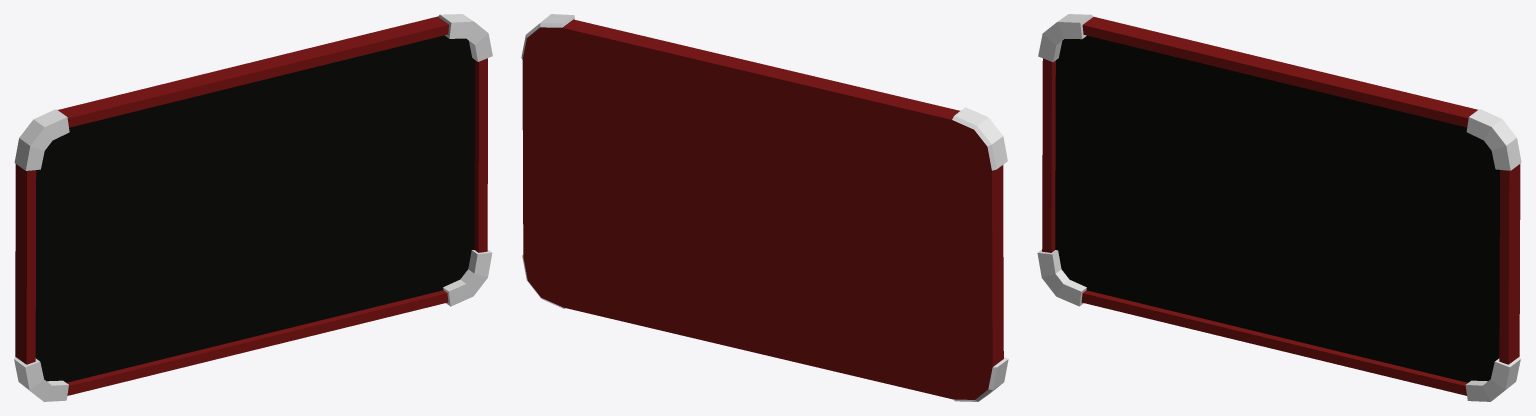
The model's file is Signal.FBX.
The picture shows the model from 3 angles, left to right: view 1: azimuth 30°, elevation 25°; view 2: azimuth 150°, elevation 25°; view 3: azimuth 330°, elevation 25°; orthographic projection.
Parts seen in each view (by area): view 1: Pizarra 06; view 2: Pizarra 06; view 3: Pizarra 06.
Boxes of the visible parts, left/top/right/bottom form: Pizarra 06: left=14, top=14, right=492, bottom=401; Pizarra 06: left=521, top=14, right=1008, bottom=401; Pizarra 06: left=1037, top=14, right=1521, bottom=401.
Bounding box in the file's own units: 15.54 × 9 × 0.9042.
